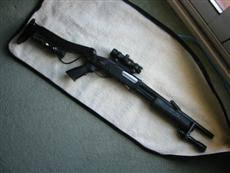Gun: (57, 47, 188, 122)
